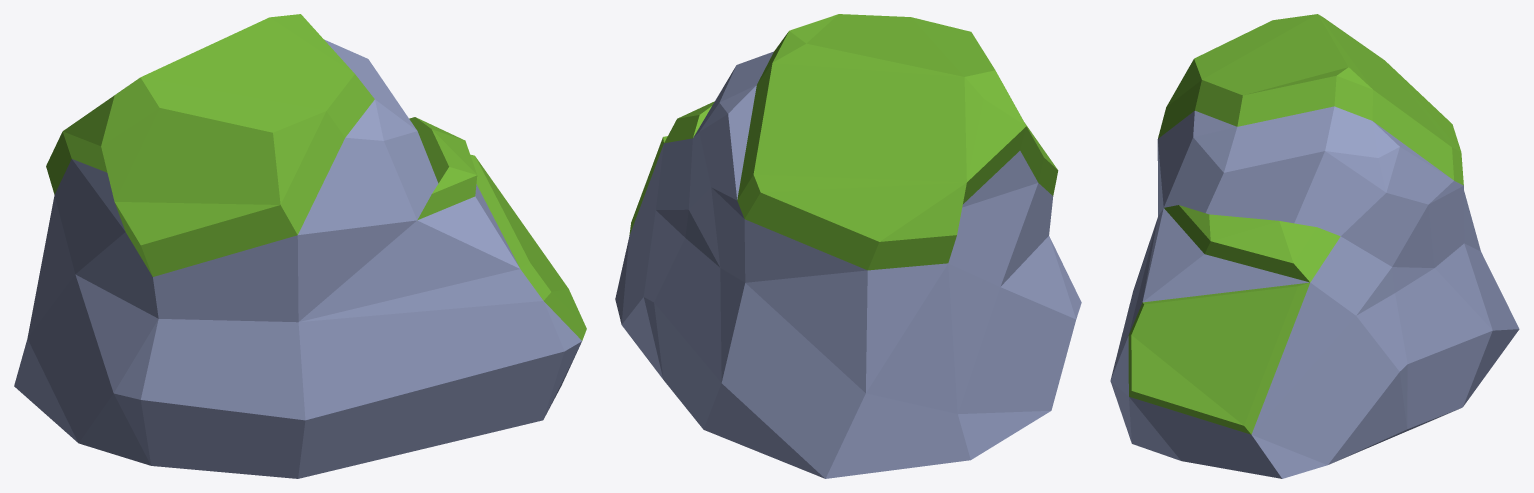
File: Rock_10_1.fbx
3 renders of one model, left to right at view 1: azimuth 30°, elevation 25°; view 2: azimuth 150°, elevation 25°; view 3: azimuth 270°, elevation 25°, orthographic. The views are drawn at different scales.
Parts seen in each view (by area): view 1: Rock_10_1; view 2: Rock_10_1; view 3: Rock_10_1.
Part boxes in pixels (x1,y1,x2,y2): Rock_10_1: [14, 14, 586, 478]; Rock_10_1: [615, 14, 1081, 478]; Rock_10_1: [1110, 14, 1519, 478].
Bounding box in the file's own units: 3.13 × 2.36 × 2.7.
